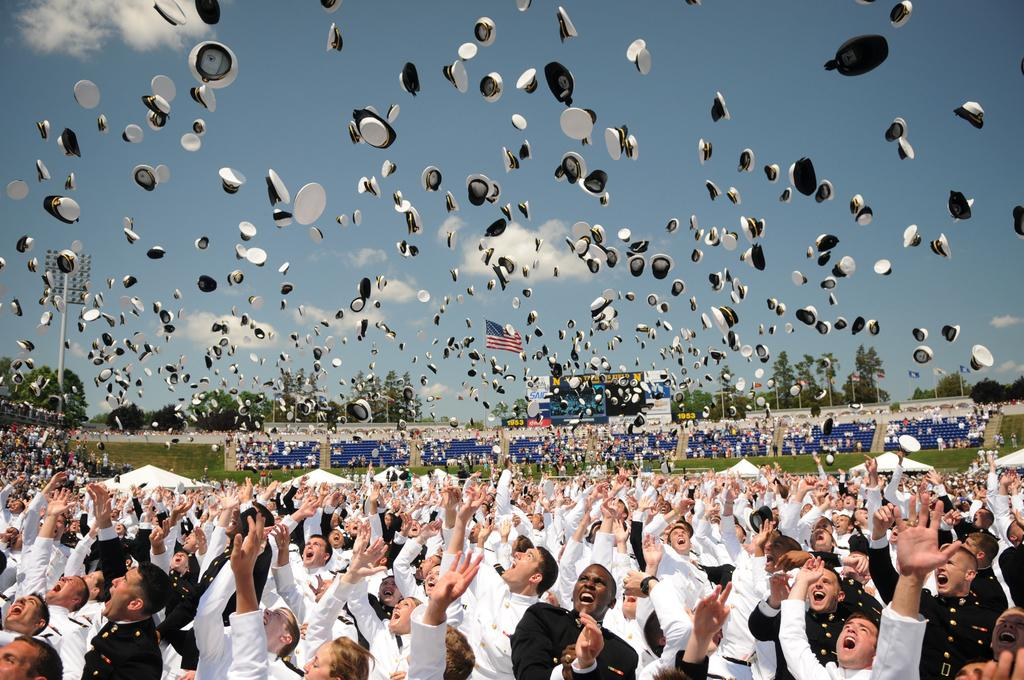Sem Máscara: (572, 557, 606, 616), (832, 616, 873, 663), (927, 552, 963, 598), (987, 606, 1022, 653), (498, 545, 540, 584), (100, 569, 134, 615), (3, 587, 40, 621), (0, 635, 29, 677), (261, 600, 287, 646), (298, 637, 327, 674), (809, 568, 832, 612), (45, 570, 77, 595), (386, 595, 412, 625), (301, 532, 323, 567), (764, 536, 783, 567), (811, 525, 835, 548), (672, 525, 691, 548), (327, 527, 344, 547), (8, 500, 17, 511)
